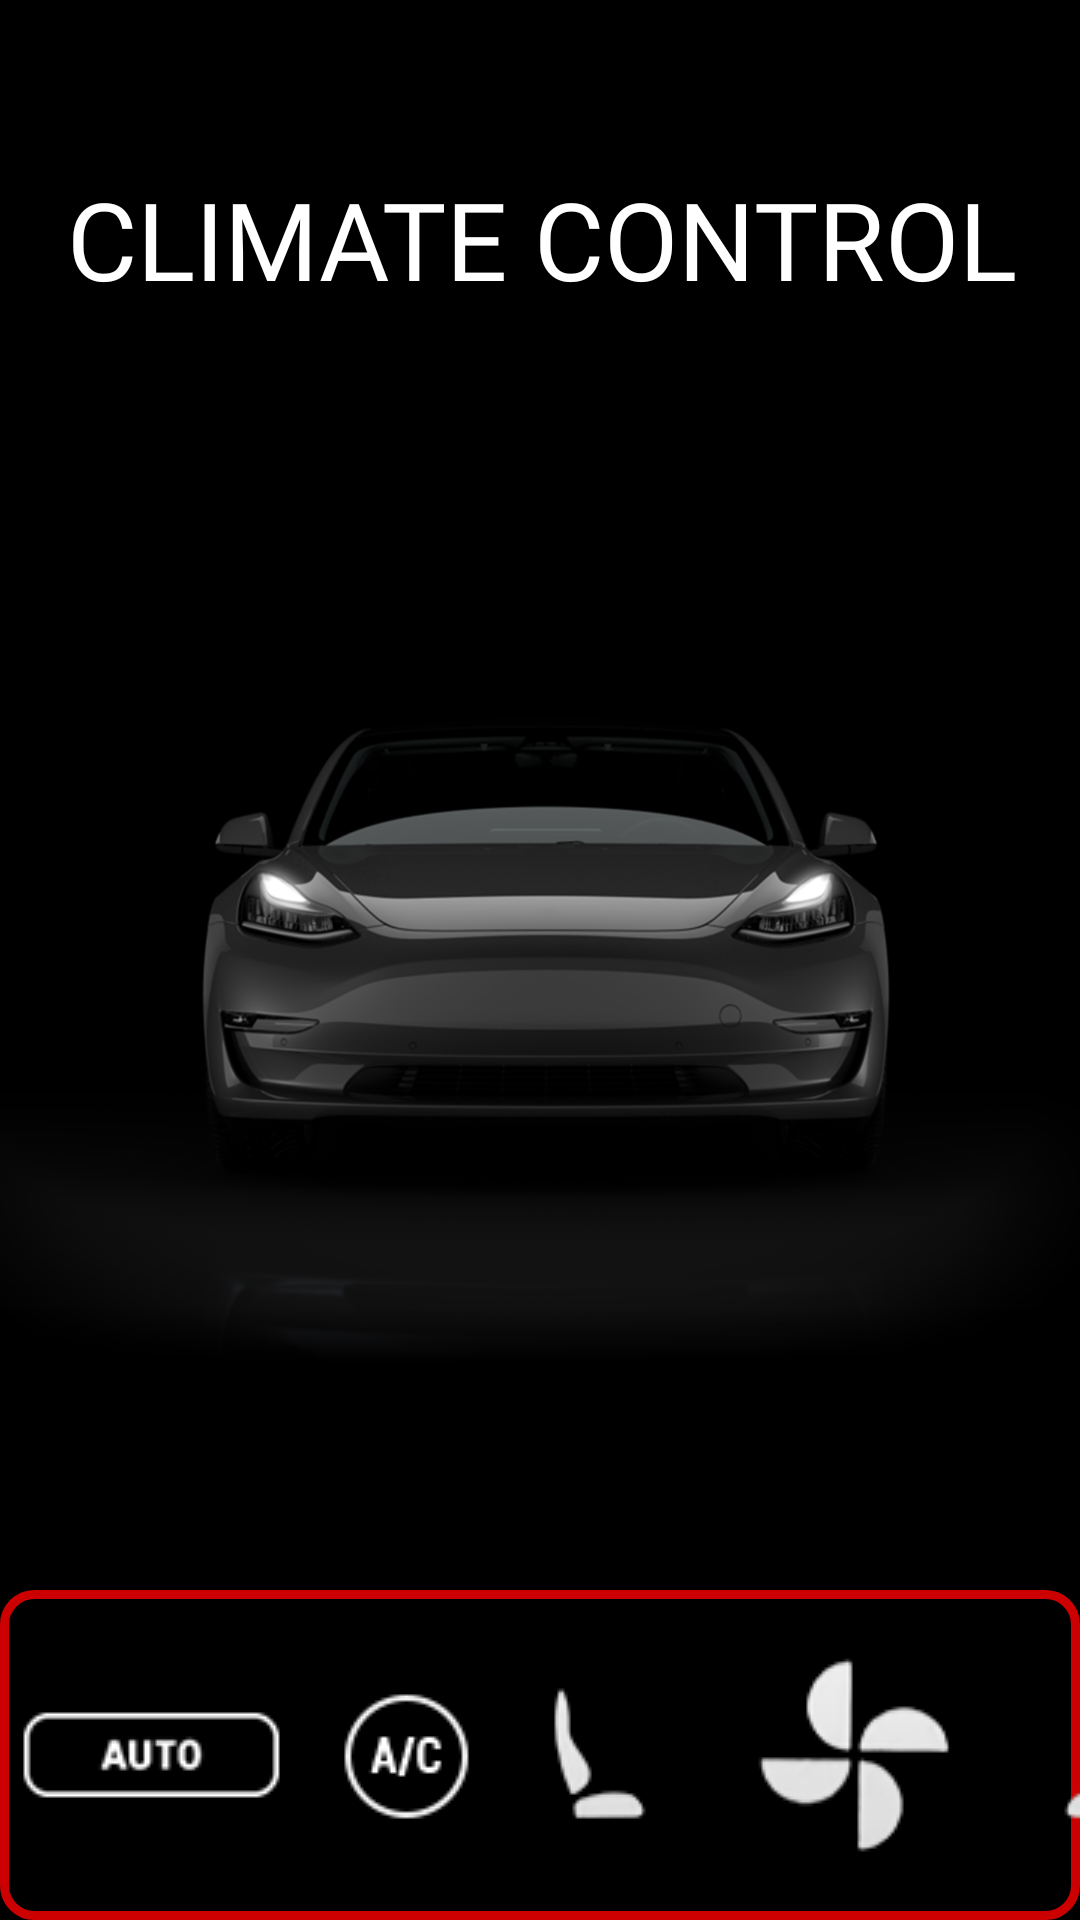

Named icons in this screenshot (1080 × 1920) and their centers, (x=x, y=y):
leftseat: (x=600, y=1753)
mainfan: (x=854, y=1755)
